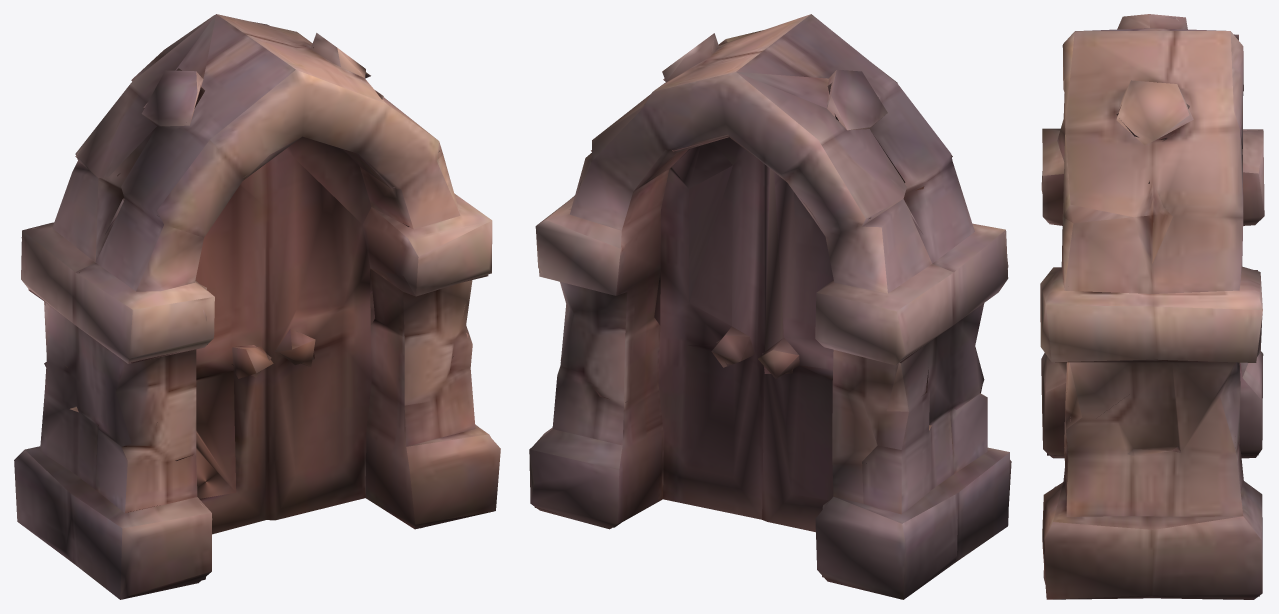
Rendered from lg-crypt-door.glb.
The picture shows the model from 3 angles, left to right: view 1: azimuth 30°, elevation 25°; view 2: azimuth 150°, elevation 25°; view 3: azimuth 270°, elevation 25°; orthographic projection.
Parts seen in each view (by area): view 1: geometry_0; view 2: geometry_0; view 3: geometry_0.
Boxes of the visible parts, x1=… form: geometry_0: x1=14, y1=14, x2=500, y2=599; geometry_0: x1=529, y1=14, x2=1011, y2=599; geometry_0: x1=1040, y1=14, x2=1264, y2=599.
Bounding box in the file's own units: 0.8262 × 1 × 0.4232.
Materials: 1 (1 with a texture image).
